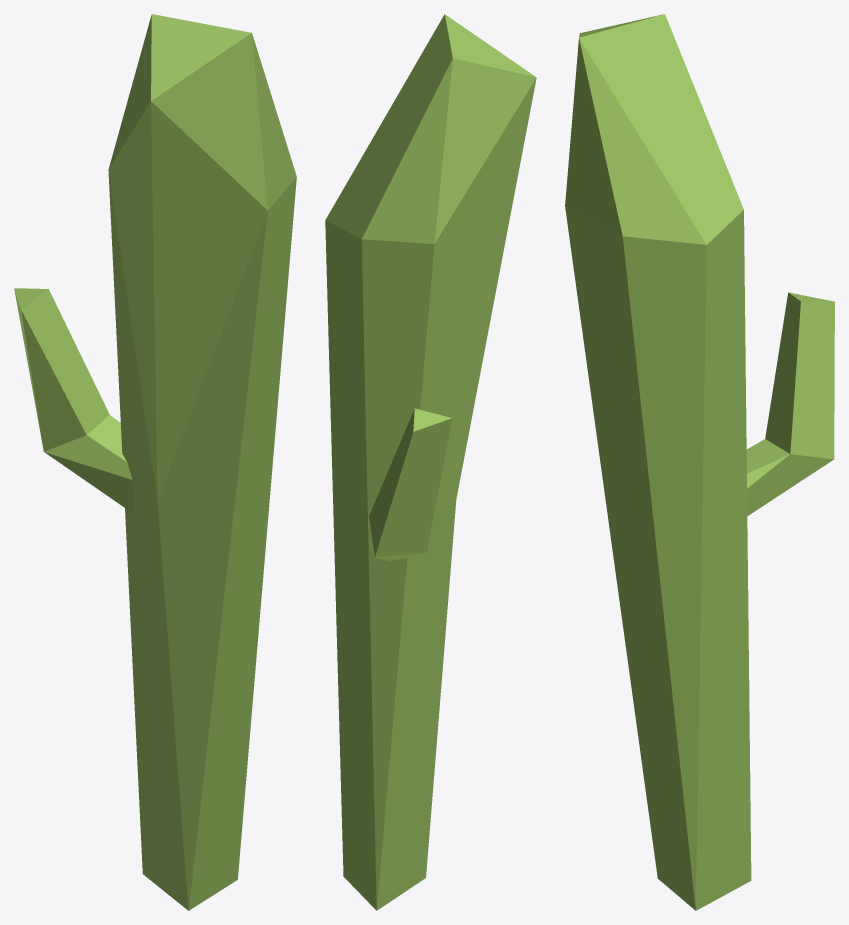
File: Cactus_s_06.fbx
3 views of the same model, side by side, from view 1: azimuth 30°, elevation 25°; view 2: azimuth 150°, elevation 25°; view 3: azimuth 270°, elevation 25° (orthographic). The views are drawn at different scales.
Parts seen in each view (by area): view 1: Cactus_s_06; view 2: Cactus_s_06; view 3: Cactus_s_06.
Part boxes in pixels (x1,y1,x2,y2): Cactus_s_06: (14,14,296,910); Cactus_s_06: (325,14,536,910); Cactus_s_06: (565,14,834,910).
Size of the model in its own units: 17.31 by 79.61 by 22.88.
